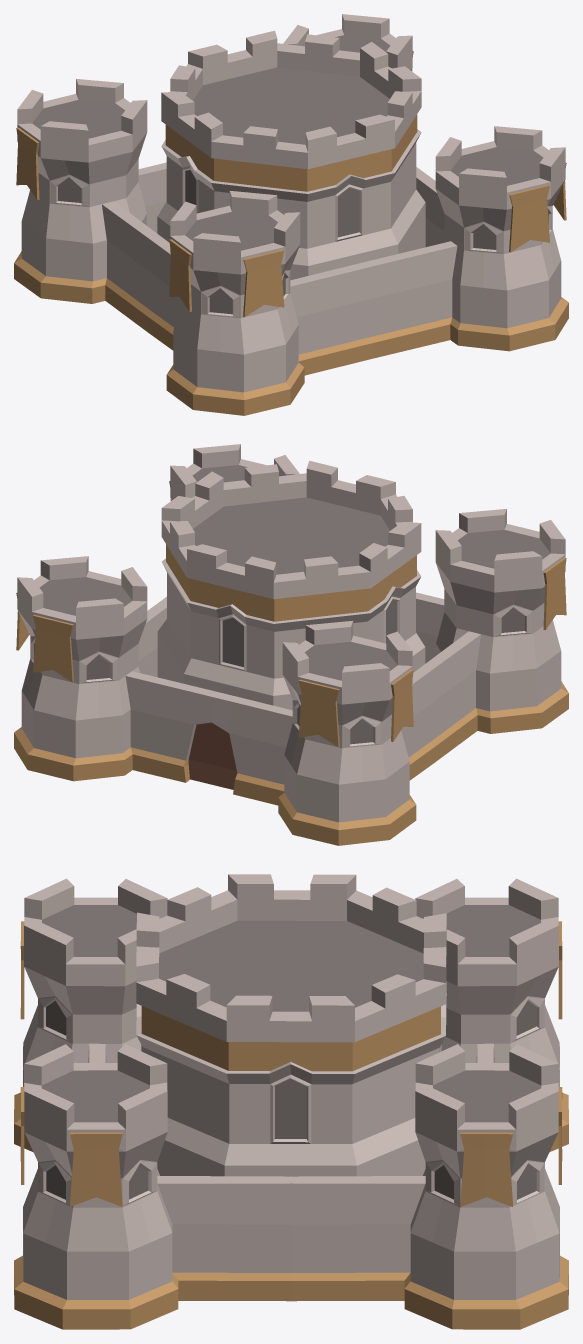
Rendered from Castle_Upgraded.fbx.
3 views of the same model, one above another, from view 1: azimuth 30°, elevation 25°; view 2: azimuth 150°, elevation 25°; view 3: azimuth 270°, elevation 25° (orthographic). The views are drawn at different scales.
Visible parts, largest first — view 1: Castle_Upgraded; view 2: Castle_Upgraded; view 3: Castle_Upgraded.
Part boxes in pixels (box(x1,y1,x2,y2)): Castle_Upgraded: box(14, 14, 568, 415); Castle_Upgraded: box(14, 444, 568, 845); Castle_Upgraded: box(14, 874, 568, 1329).
Bounding box in the file's own units: 1722 × 930 × 1718.
